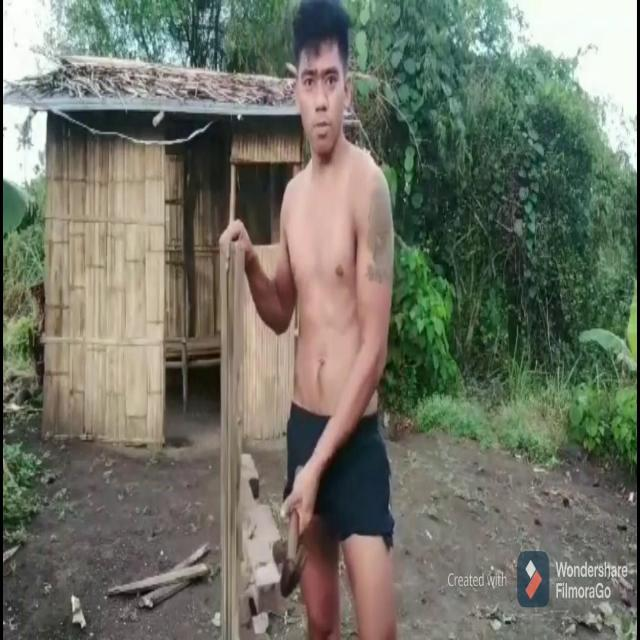hammer: (280, 465, 309, 598)
